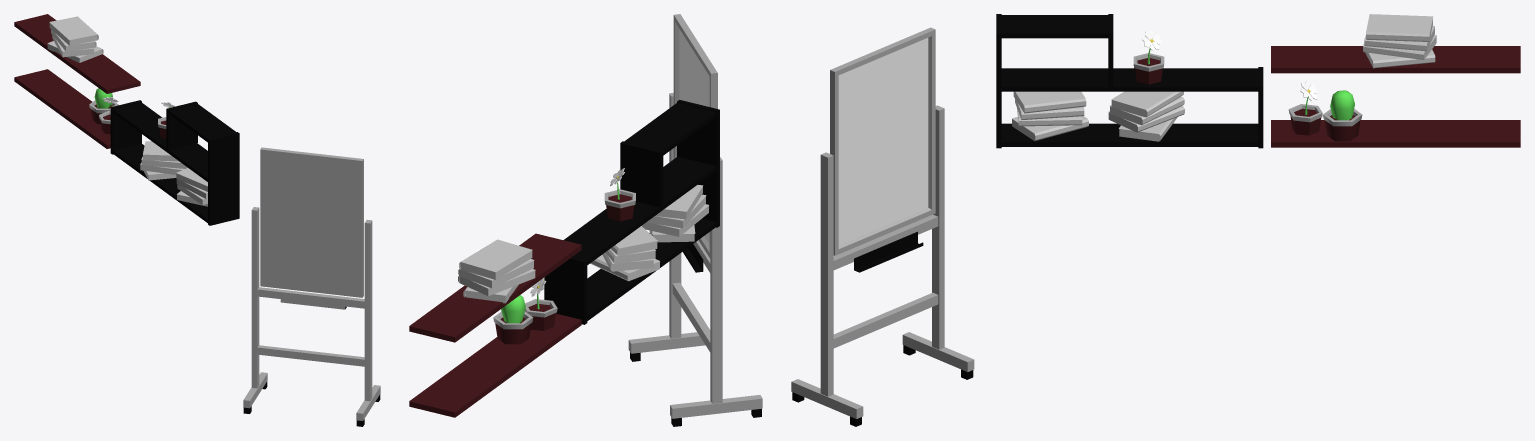
The model's file is lounge_set.dae.
3 renders of one model, left to right at view 1: azimuth 30°, elevation 25°; view 2: azimuth 150°, elevation 25°; view 3: azimuth 270°, elevation 25°, orthographic. The views are drawn at different scales.
Visible parts, largest first — view 1: WhiteBoard, Wall Book Shelf Black, Wall Book Shelf Red, Book.001, Book.000, Book.002, Cactus; view 2: Wall Book Shelf Black, WhiteBoard, Wall Book Shelf Red, Book.001, Book.000, Book.002, Cactus, Daisy.001, Daisy; view 3: WhiteBoard, Wall Book Shelf Black, Wall Book Shelf Red, Book.001, Book.002, Book.000, Cactus, Daisy, Daisy.001.
Boxes of the visible parts, x1=… form: WhiteBoard: x1=243, y1=147, x2=380, y2=426; Wall Book Shelf Black: x1=110, y1=100, x2=239, y2=225; Wall Book Shelf Red: x1=14, y1=14, x2=140, y2=148; Book.001: x1=47, y1=16, x2=103, y2=62; Book.000: x1=140, y1=141, x2=187, y2=180; Book.002: x1=176, y1=168, x2=207, y2=206; Cactus: x1=89, y1=88, x2=118, y2=124; Wall Book Shelf Black: x1=544, y1=100, x2=719, y2=324; WhiteBoard: x1=628, y1=14, x2=762, y2=426; Wall Book Shelf Red: x1=409, y1=233, x2=581, y2=417; Book.001: x1=458, y1=239, x2=535, y2=303; Book.000: x1=590, y1=226, x2=659, y2=281; Book.002: x1=642, y1=185, x2=708, y2=242; Cactus: x1=493, y1=295, x2=533, y2=344; Daisy.001: x1=604, y1=168, x2=635, y2=221; Daisy: x1=525, y1=278, x2=557, y2=330; WhiteBoard: x1=791, y1=27, x2=974, y2=426; Wall Book Shelf Black: x1=996, y1=14, x2=1263, y2=148; Wall Book Shelf Red: x1=1271, y1=46, x2=1520, y2=147; Book.001: x1=1363, y1=14, x2=1436, y2=68; Book.002: x1=1012, y1=91, x2=1088, y2=141; Book.000: x1=1108, y1=91, x2=1184, y2=141; Cactus: x1=1323, y1=90, x2=1362, y2=141; Daisy: x1=1288, y1=81, x2=1322, y2=135; Daisy.001: x1=1133, y1=31, x2=1164, y2=84.
Size of the model in its own units: 0.9692 by 3.51 by 1.8.
